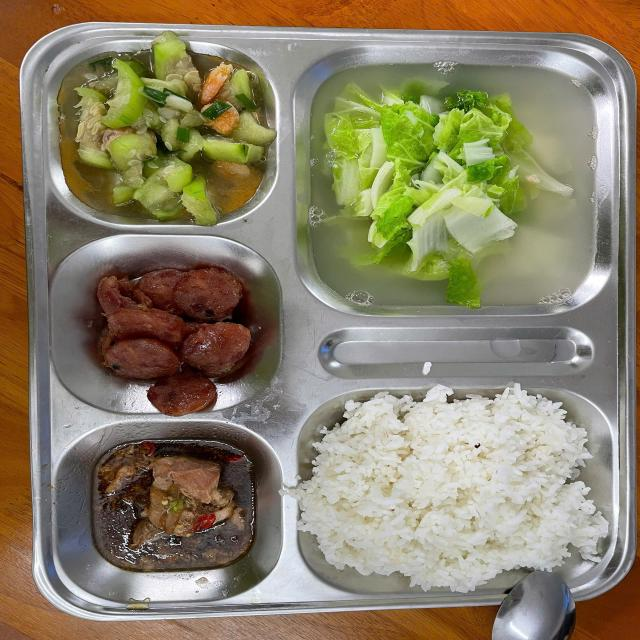canhcai: (306, 66, 603, 312)
lapxuong: (86, 258, 272, 412)
muoptom: (63, 49, 278, 222)
salad: (315, 409, 592, 576)
thitkhogung: (93, 441, 265, 570)
